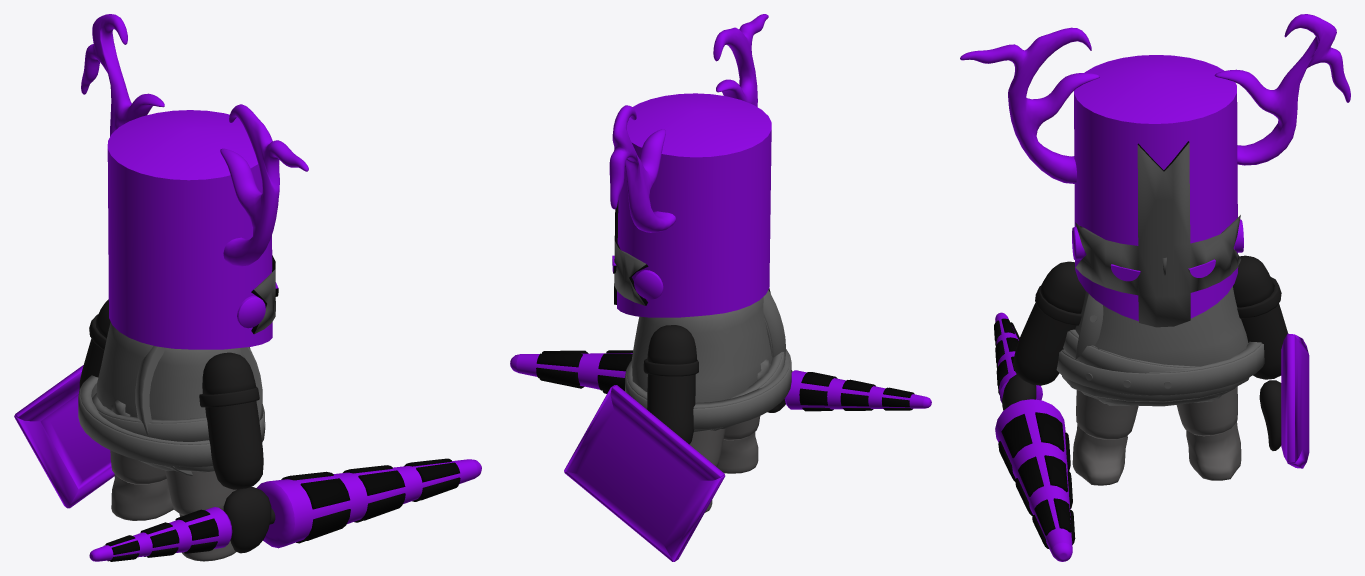
The model's file is personaje.fbx.
3 renders of one model, left to right at view 1: azimuth 30°, elevation 25°; view 2: azimuth 150°, elevation 25°; view 3: azimuth 270°, elevation 25°, orthographic. The views are drawn at different scales.
Parts seen in each view (by area): view 1: CC_KNIGHT_PURPLE.004; view 2: CC_KNIGHT_PURPLE.004; view 3: CC_KNIGHT_PURPLE.004.
Boxes of the visible parts, x1,y1,x2,y2 form: CC_KNIGHT_PURPLE.004: [14, 14, 481, 561]; CC_KNIGHT_PURPLE.004: [510, 14, 931, 561]; CC_KNIGHT_PURPLE.004: [960, 14, 1350, 561].
Size of the model in its own units: 221 by 240 by 178.
